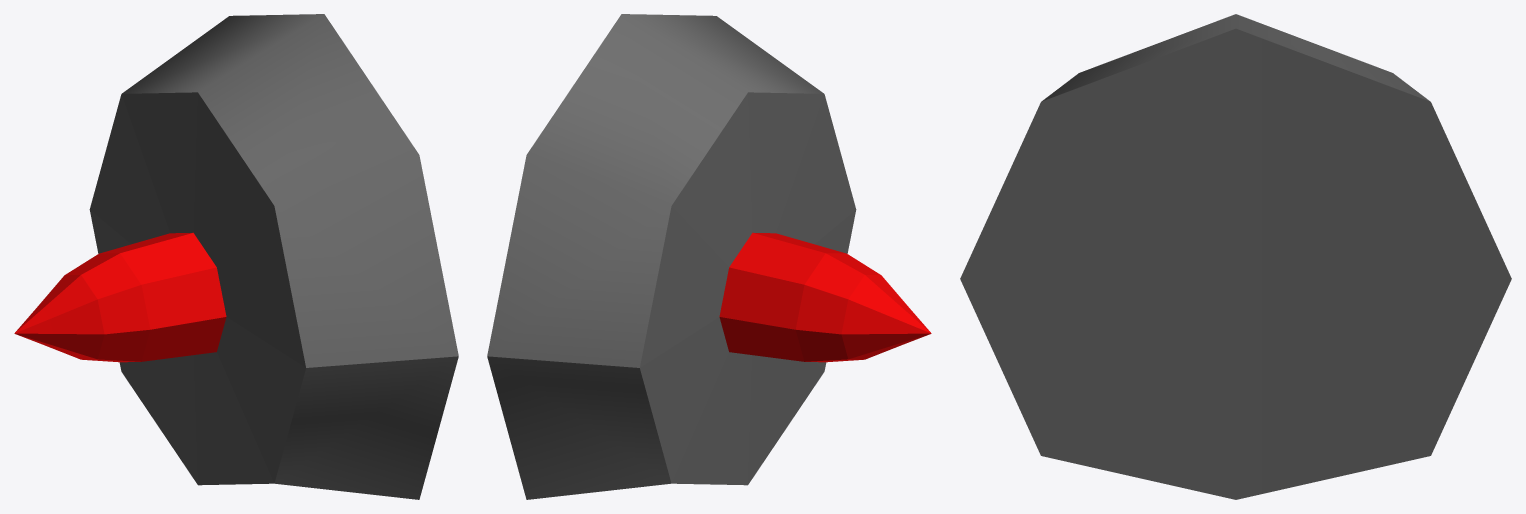
The model's file is Nez_3_1.FBX.
The picture shows the model from 3 angles, left to right: view 1: azimuth 30°, elevation 25°; view 2: azimuth 150°, elevation 25°; view 3: azimuth 270°, elevation 25°; orthographic projection. The views are drawn at different scales.
Parts seen in each view (by area): view 1: Object005; view 2: Object005; view 3: Object005.
Boxes of the visible parts, x1,y1,x2,y2 form: Object005: (14,14,458,499); Object005: (487,14,931,499); Object005: (960,14,1511,499).
Bounding box in the file's own units: 13.39 × 19.19 × 20.09.
